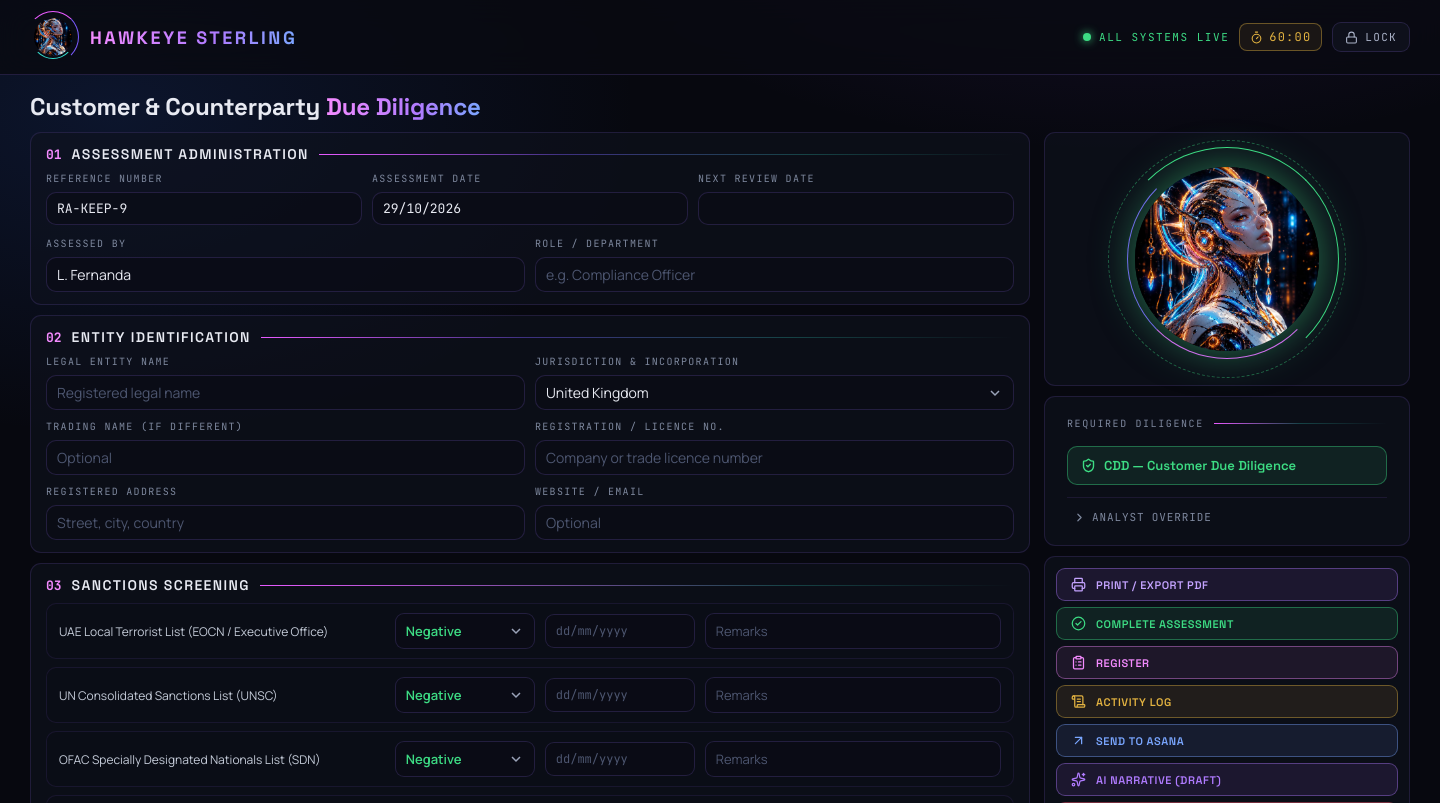
accessibility › gives the modal dialog an accessible name
The width and height of the screenshot is (1440, 803).
What coordinates should you click on to do the following:
click the button "ACTIVITY LOG"
I would click on:
 (1134, 702)
Its box is [1056,685,1398,718].
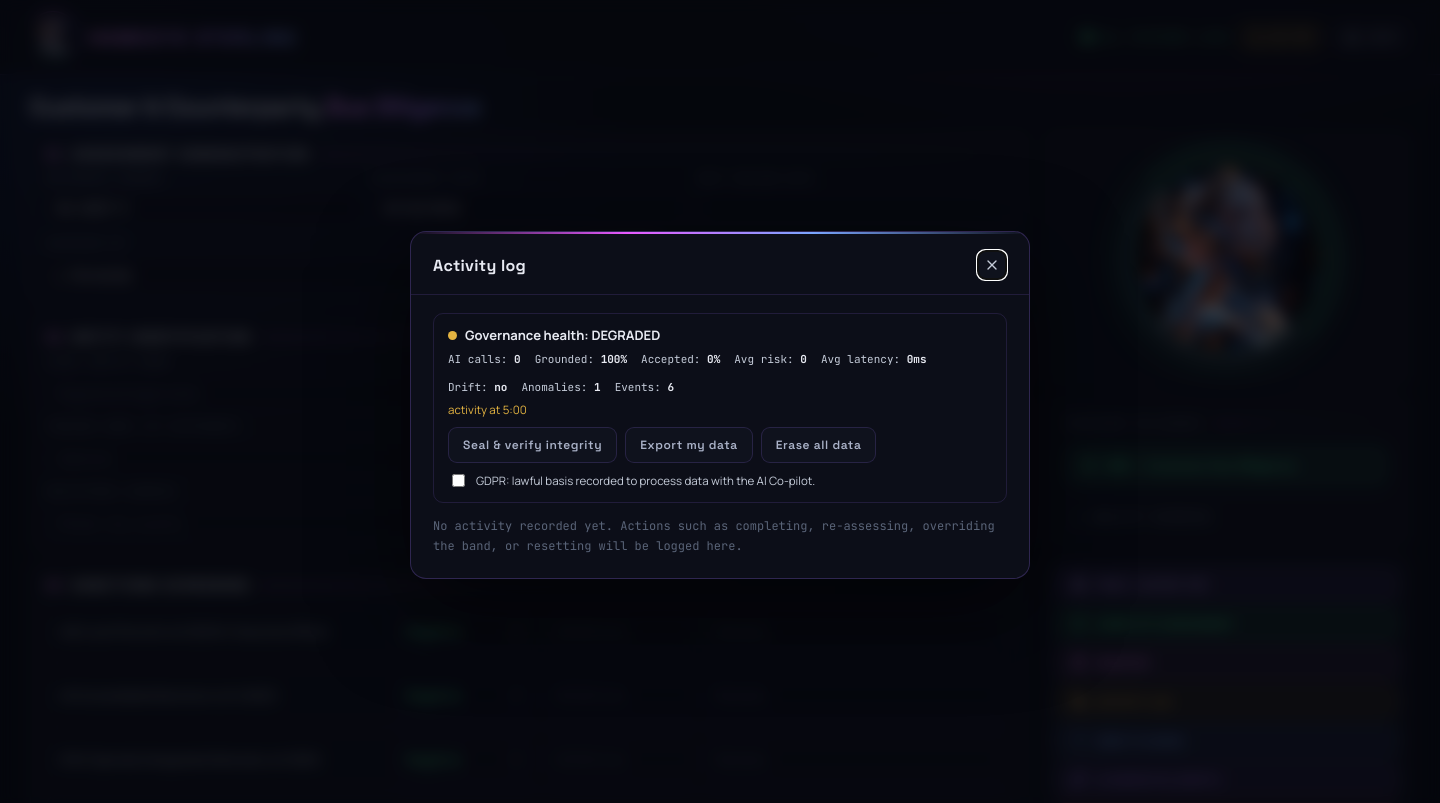
Check: the dialog "Activity log" is shown, box [410,231,1030,579]
